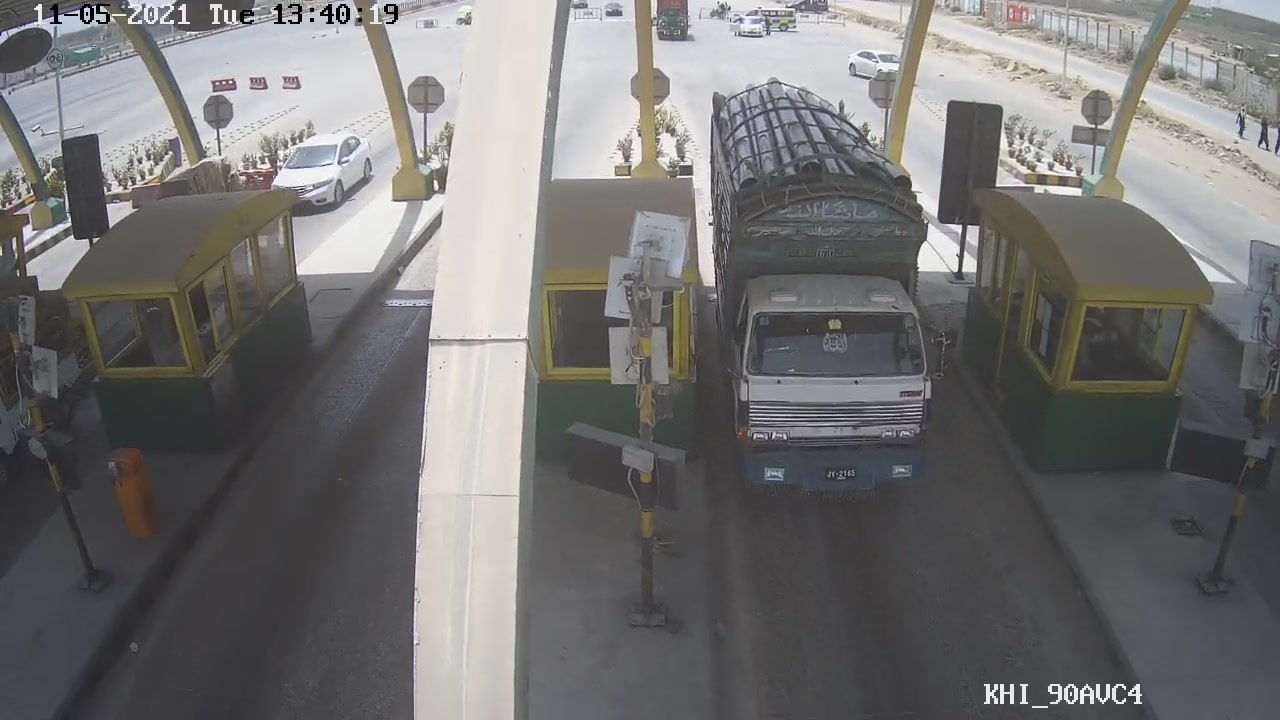F5: (698, 64, 966, 506)
